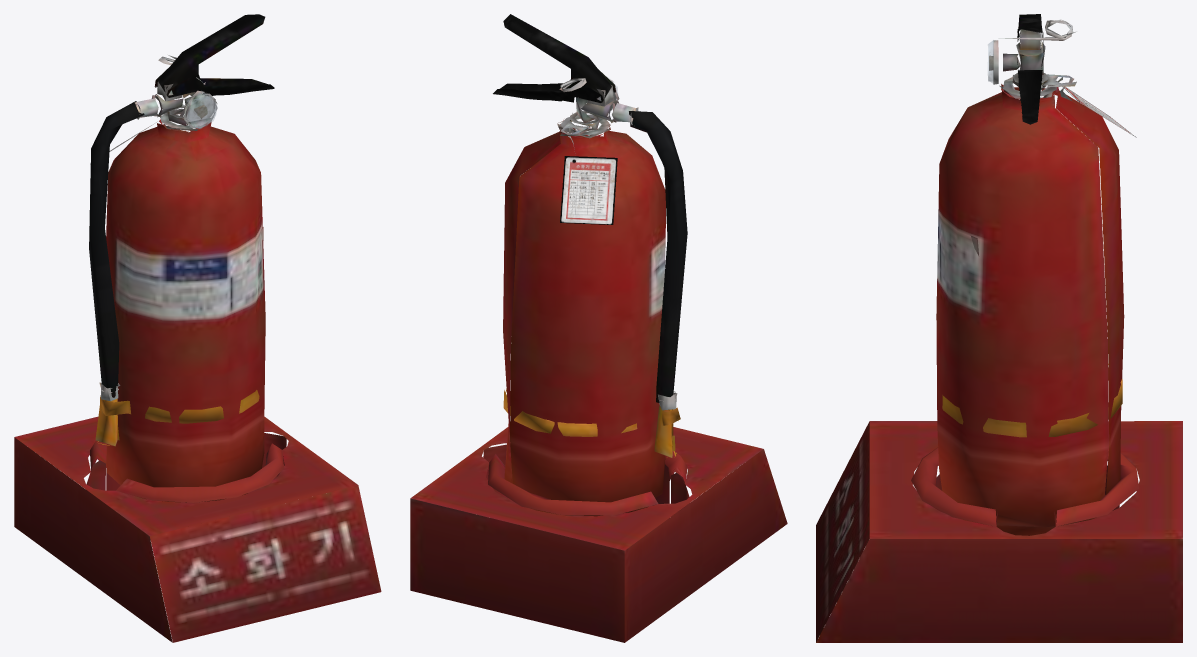
Rendered from extinguisher.glb.
3 views of the same model, side by side, from view 1: azimuth 30°, elevation 25°; view 2: azimuth 150°, elevation 25°; view 3: azimuth 270°, elevation 25° (orthographic). The views are drawn at different scales.
Parts seen in each view (by area): view 1: extinguisher; view 2: extinguisher; view 3: extinguisher.
Part boxes in pixels (x1,y1,x2,y2): extinguisher: (14,14,381,642); extinguisher: (410,14,787,642); extinguisher: (816,14,1182,642).
Bounding box in the file's own units: 0.2796 × 0.6609 × 0.3674.
3 materials, 3 textured.
